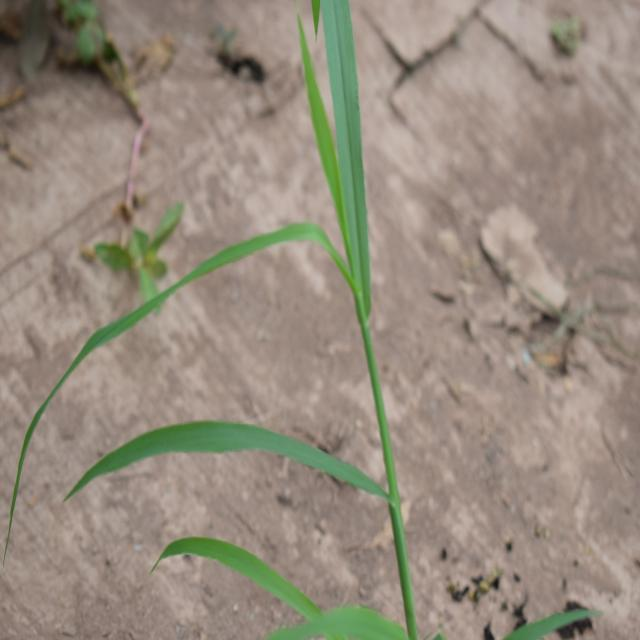crabgrass: (19, 3, 422, 591)
